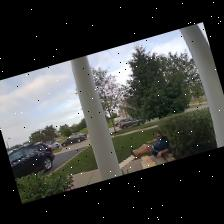person: (132, 130, 170, 157)
